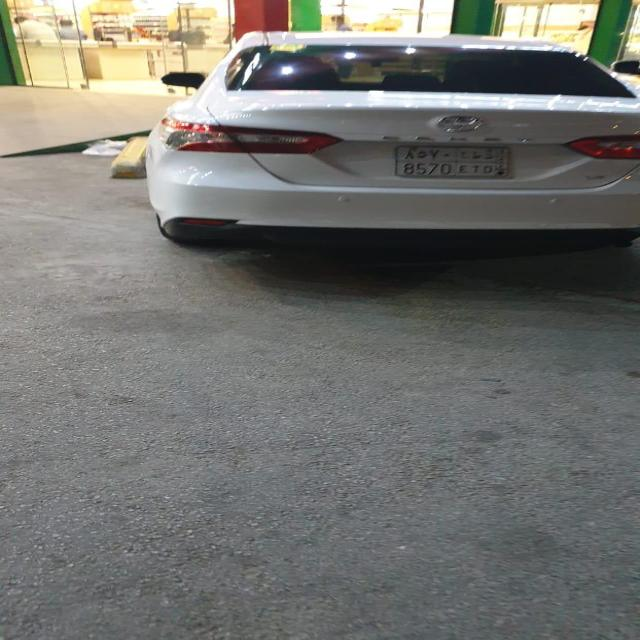license_plate: (393, 144, 513, 178)
